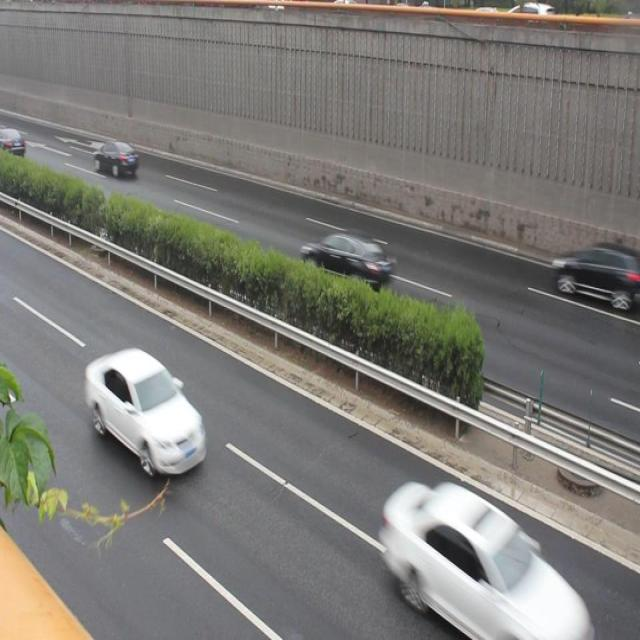car: (382, 482, 589, 640), (85, 346, 206, 475), (550, 239, 640, 316), (300, 228, 393, 292), (94, 140, 138, 178)
